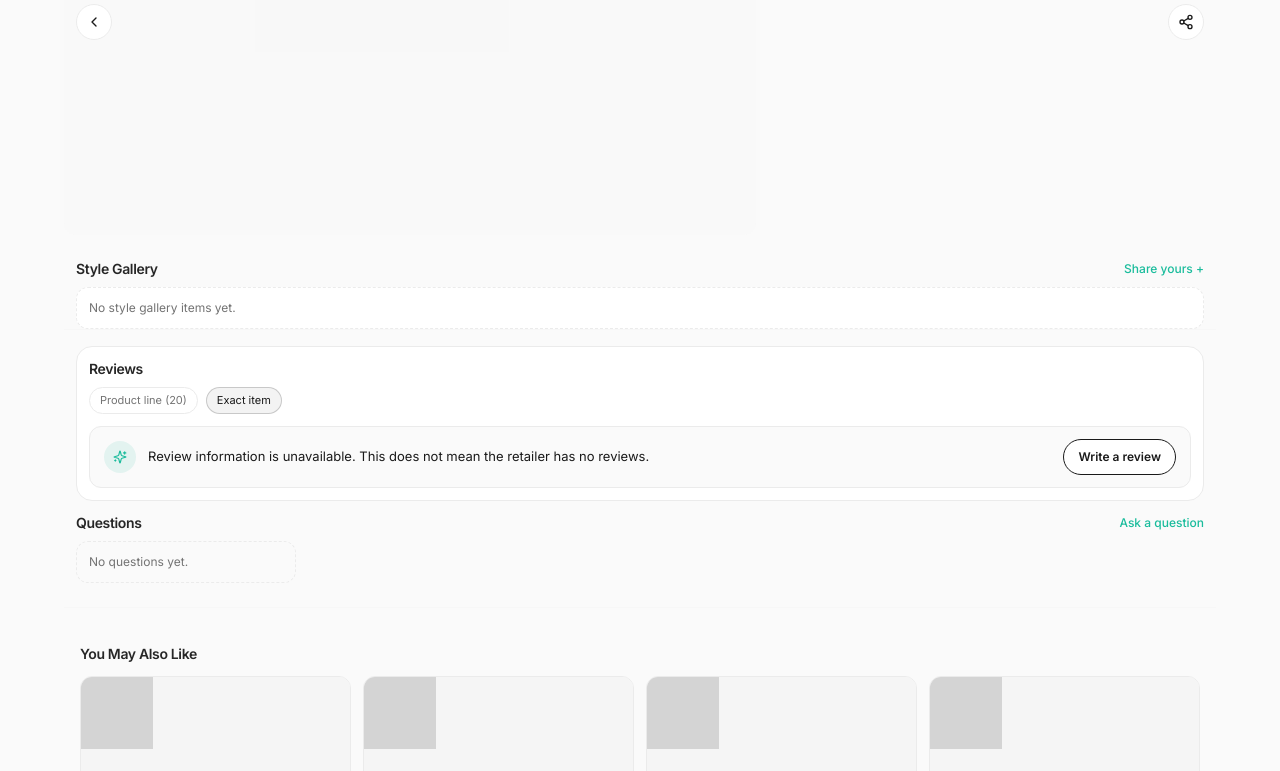
PdpContainer recommendations interactions › adversarial: unknown exact review scope stays unknown
(page scrolled)
Expected: the text "Review information is unavailable" is shown, [148,448,649,464]
Step 1. Click the button "Product line (20)" → (143, 400), box [89,387,198,414]
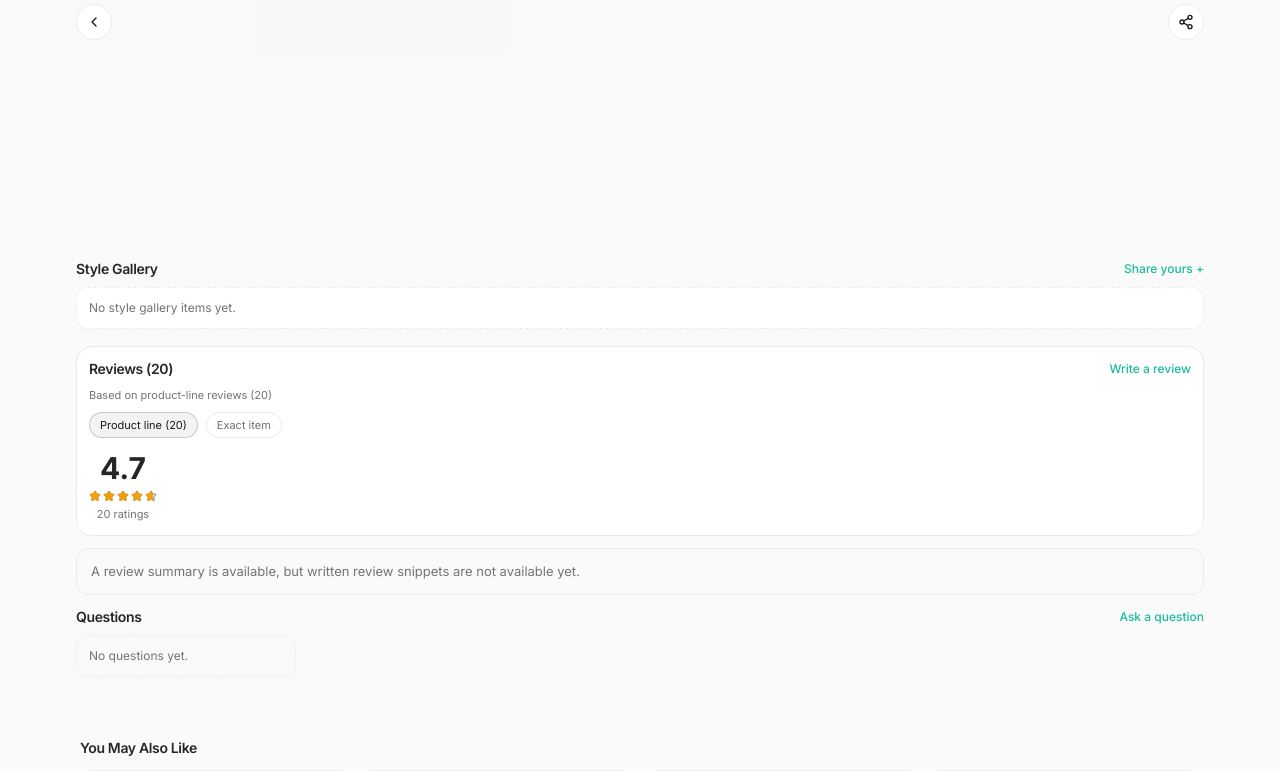
Result: the text "Review information is unavailable" is gone
Step 2. Click the button "Exact item" → (244, 425), box [206,412,282,438]
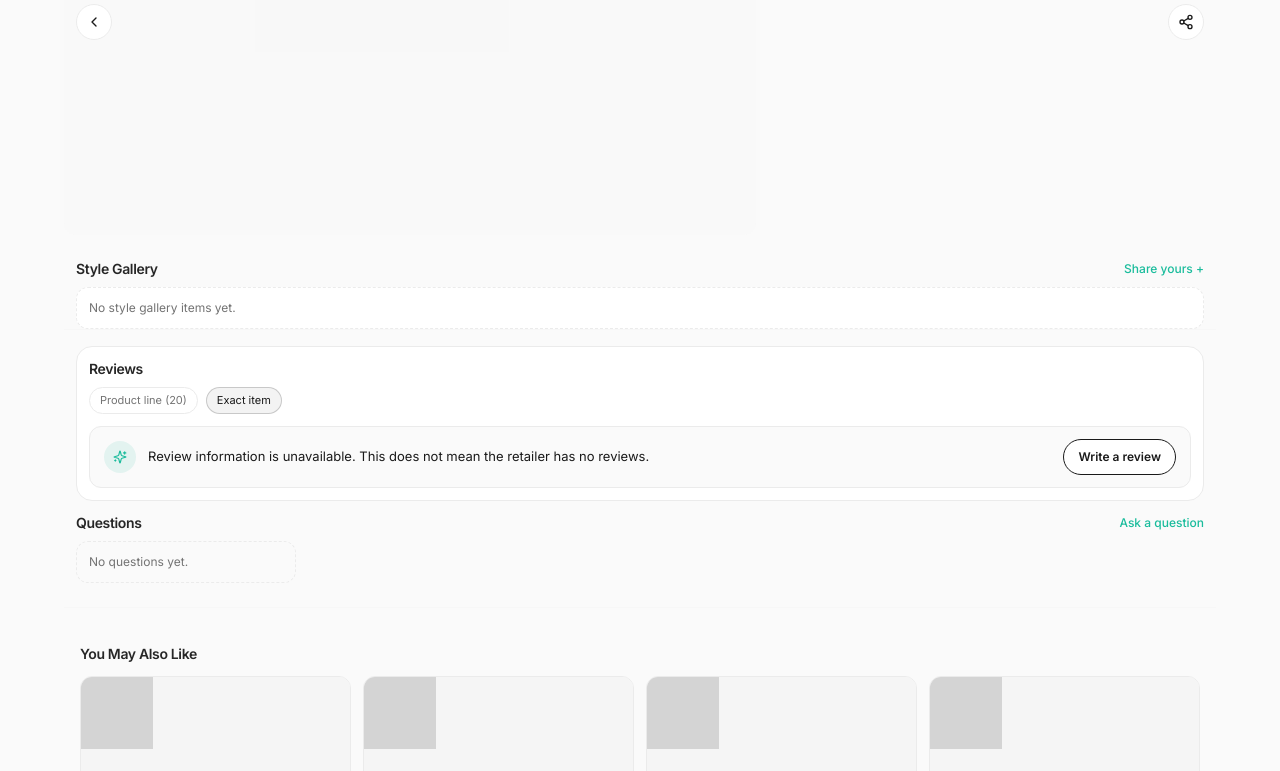
Result: the text "Review information is unavailable" is shown at [148,448,649,464]
